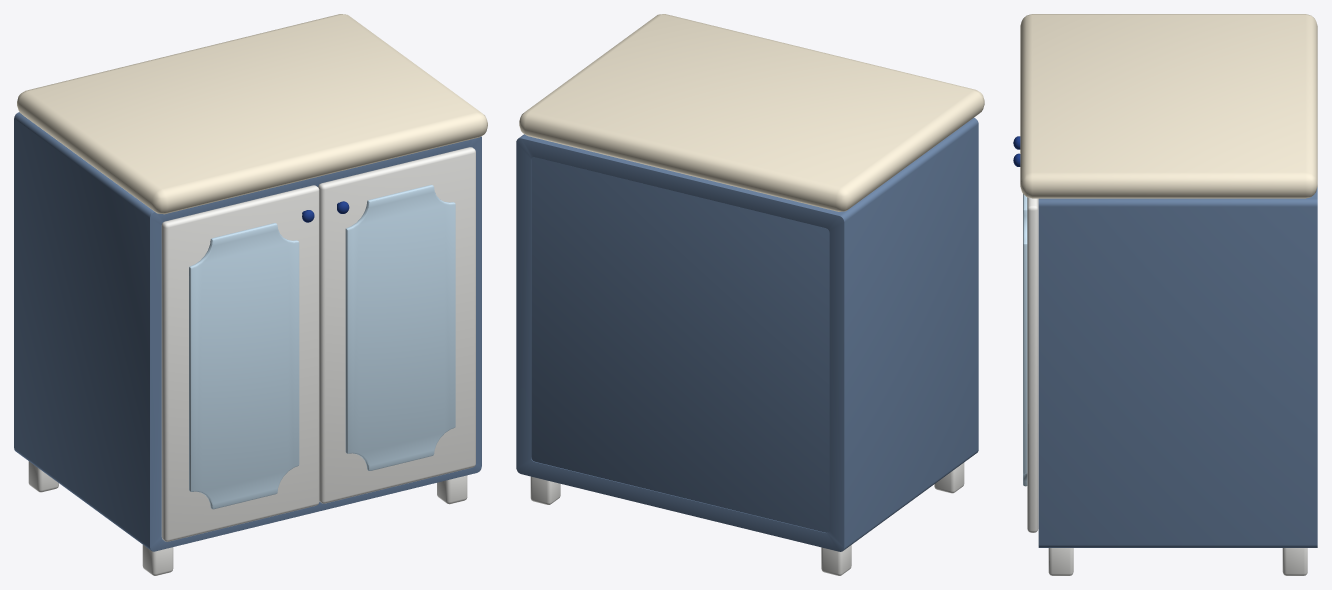
File: armario_cozinha_base_2portas_classica_azul.glb
The picture shows the model from 3 angles, left to right: view 1: azimuth 30°, elevation 25°; view 2: azimuth 150°, elevation 25°; view 3: azimuth 270°, elevation 25°; orthographic projection. The views are drawn at different scales.
Parts seen in each view (by area): view 1: armario_cozinha_base_2portas_classica_azul, porta_1, porta_2; view 2: armario_cozinha_base_2portas_classica_azul; view 3: armario_cozinha_base_2portas_classica_azul, porta_2.
Part boxes in pixels (x1,y1,x2,y2): armario_cozinha_base_2portas_classica_azul: (14, 14, 487, 575); porta_1: (161, 185, 319, 541); porta_2: (318, 147, 475, 503); armario_cozinha_base_2portas_classica_azul: (516, 14, 984, 575); armario_cozinha_base_2portas_classica_azul: (1020, 14, 1317, 575); porta_2: (1013, 153, 1038, 532).
Bounding box in the file's own units: 0.798 × 0.9 × 0.6131.
Materials: 1 (1 with a texture image).
